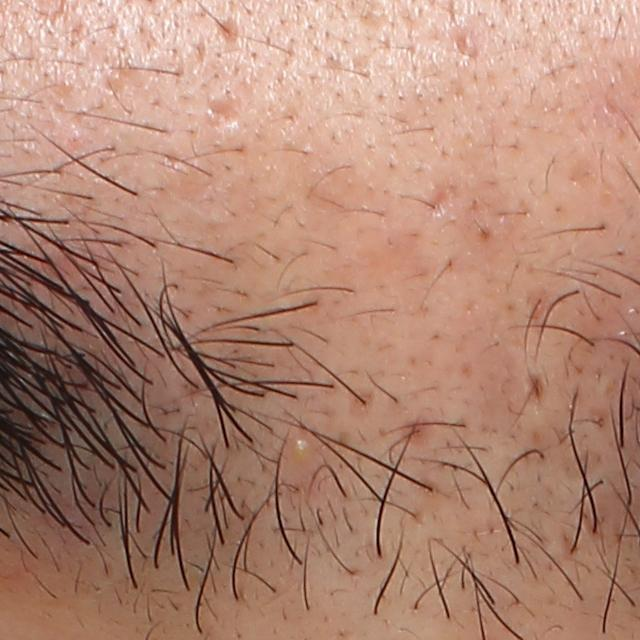atrophic_scar: (204, 92, 242, 127), (427, 182, 456, 220), (451, 29, 484, 60), (216, 15, 247, 47)
